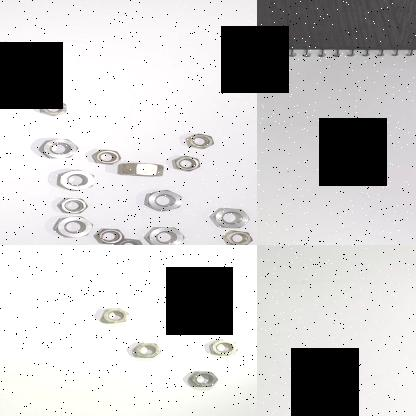NUTS: (50, 214, 98, 240), (37, 135, 85, 159), (140, 187, 184, 213), (52, 168, 98, 192), (204, 206, 252, 229), (114, 160, 166, 178), (143, 223, 185, 245), (203, 337, 243, 357), (125, 338, 165, 358), (35, 97, 71, 117), (184, 368, 220, 388), (178, 294, 214, 314), (96, 304, 132, 324), (91, 225, 126, 245), (183, 128, 217, 148), (56, 194, 90, 214), (91, 147, 123, 167), (222, 227, 257, 245), (170, 152, 202, 170), (110, 236, 148, 245)
